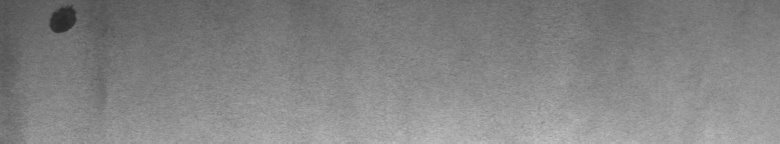fi: (44, 4, 84, 40)
